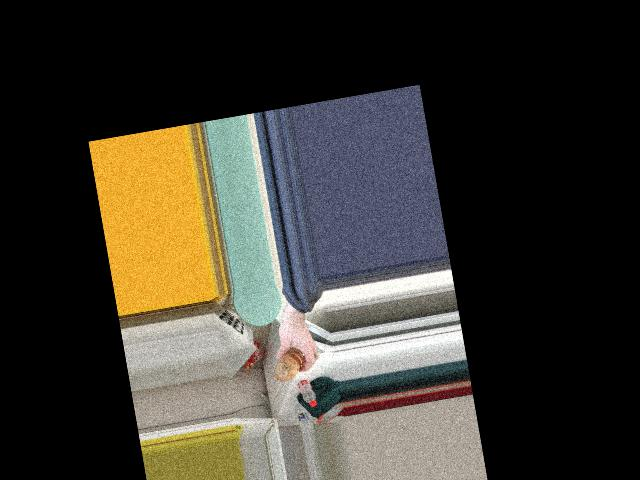sweet_potato: (272, 344, 306, 381)
